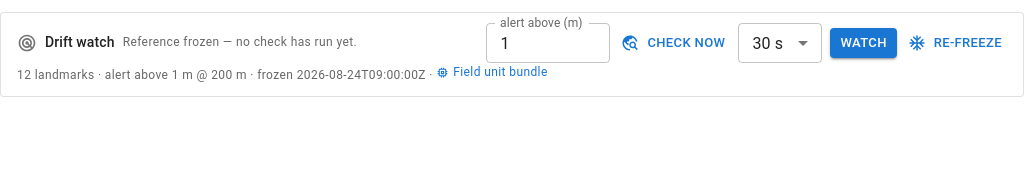
Test: the drift section › shows THIS frame’s reading even while the confirmed status still says OK
The image size is (1024, 172).
Click the button "Check now": (674, 43) [618,28,730,58]
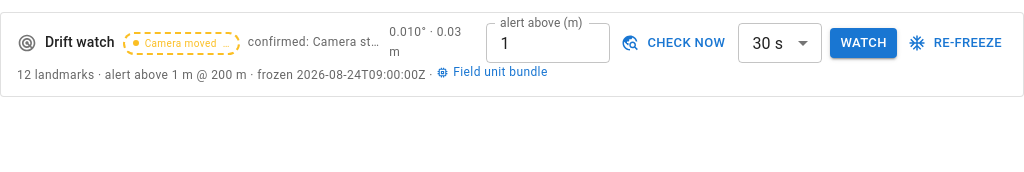
Now the text "Camera moved" is shown, box [145,38,217,48]
Now the text "confirmed: Camera steady" is shown, box [248,33,381,53]
